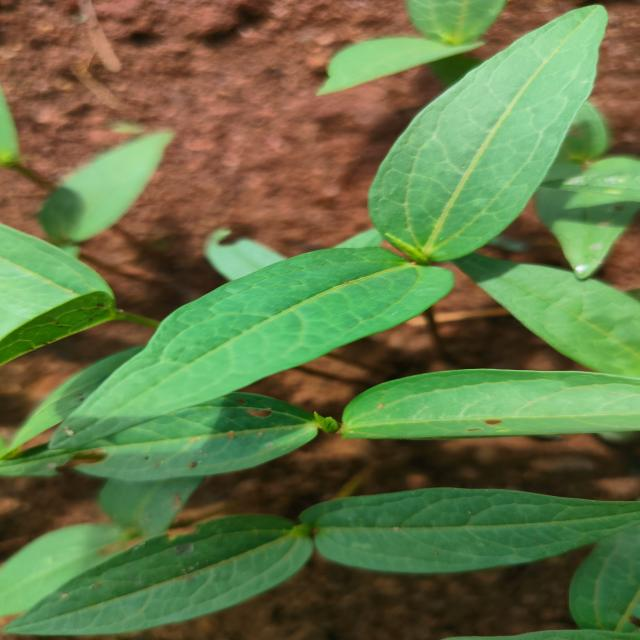Black gram_healthy: (76, 245, 454, 446), (374, 3, 604, 261), (11, 510, 317, 640), (300, 481, 640, 574), (340, 365, 640, 440), (471, 258, 640, 384), (29, 128, 168, 242)
